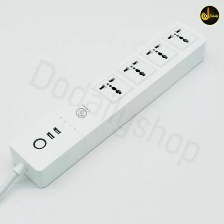three_eye_plug: (6, 19, 211, 191)
